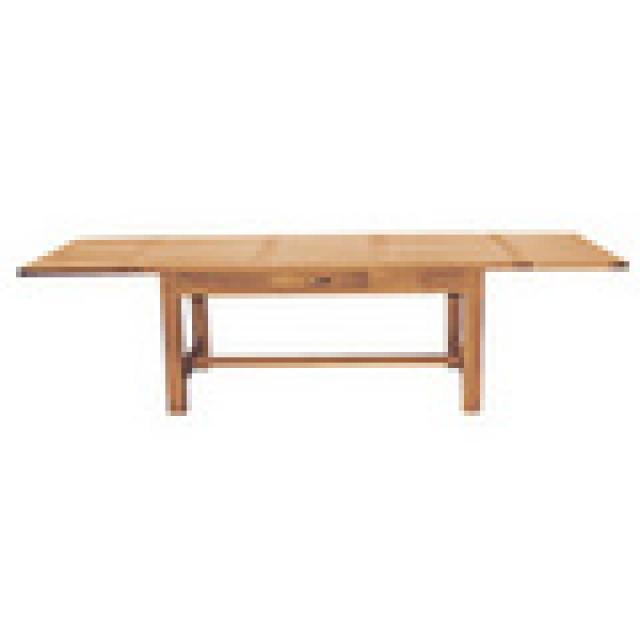table: (15, 232, 631, 416)
